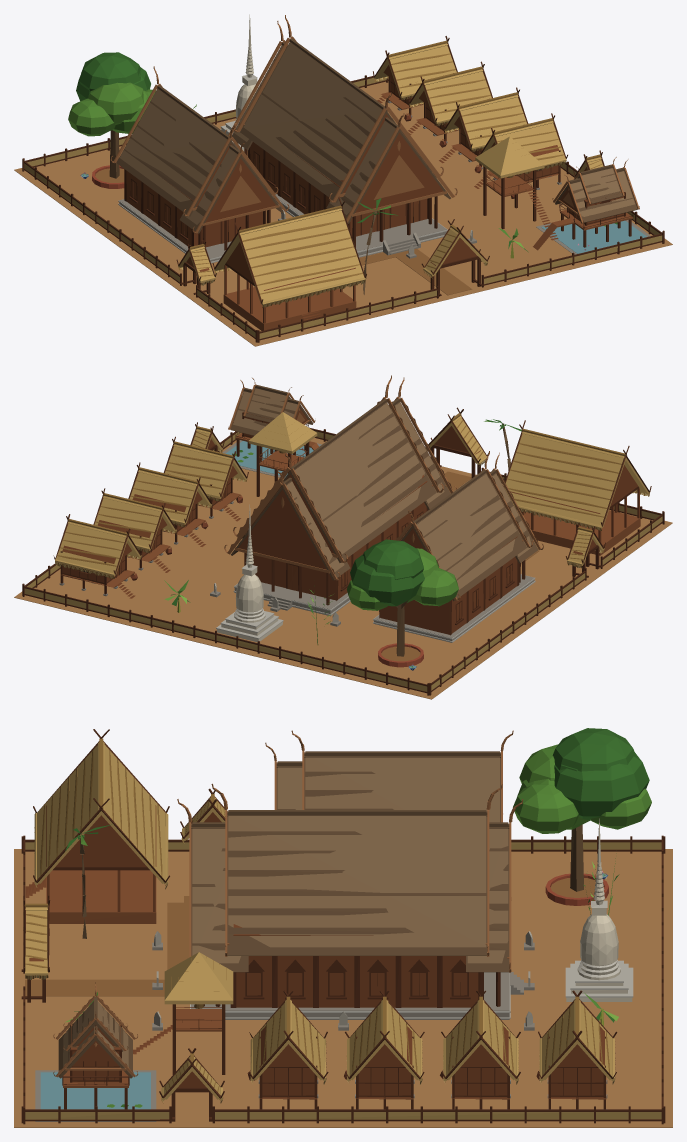
File: temple_3.glb
3 views of the same model, one above another, from view 1: azimuth 30°, elevation 25°; view 2: azimuth 150°, elevation 25°; view 3: azimuth 270°, elevation 25° (orthographic). The views are drawn at different scales.
Parts seen in each view (by area): view 1: body; view 2: body; view 3: body.
Part boxes in pixels (x1,y1,x2,y2): body: (14,14,672,346); body: (14,375,672,699); body: (14,728,672,1127).
Bounding box in the file's own units: 47.9 × 16.49 × 47.9.
